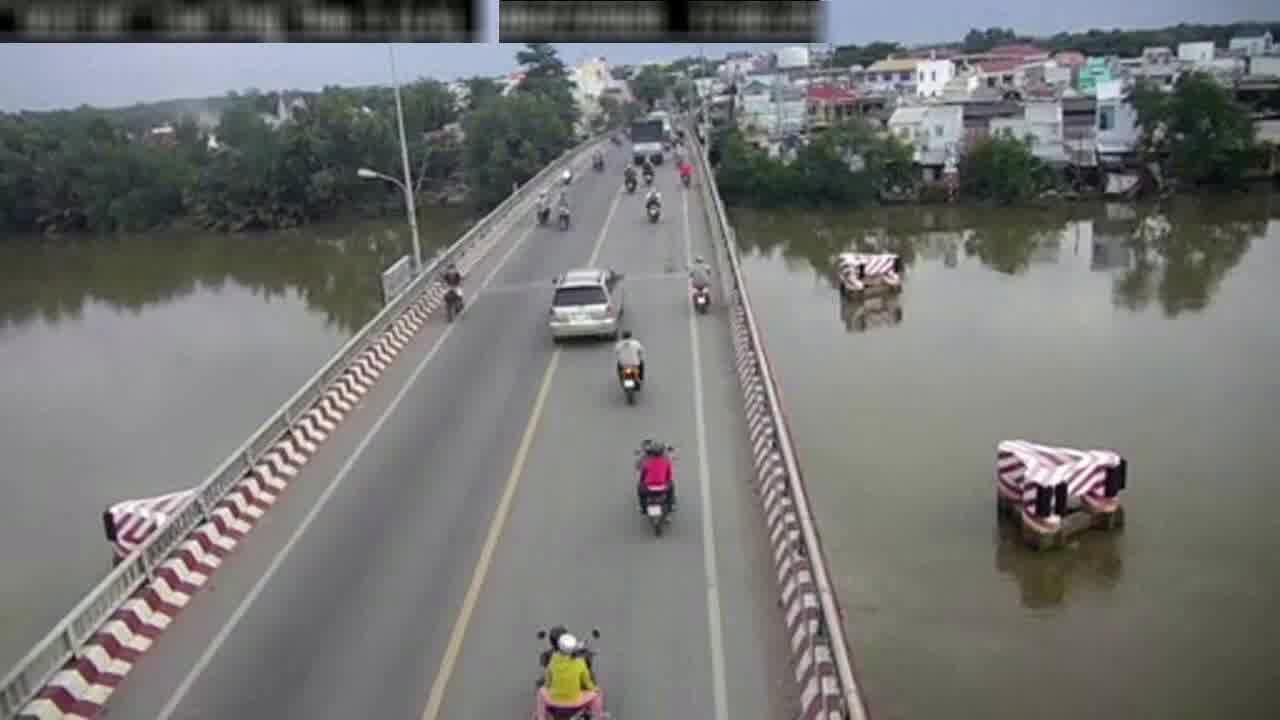car: (551, 258, 619, 344)
container: (629, 117, 664, 164)
motorbike: (537, 621, 605, 720), (633, 435, 679, 541), (613, 327, 646, 406), (689, 253, 713, 314), (441, 261, 463, 325), (643, 188, 663, 224), (556, 189, 571, 231), (621, 160, 637, 193), (536, 188, 550, 224), (640, 155, 655, 186), (677, 160, 693, 186), (592, 143, 605, 170)
